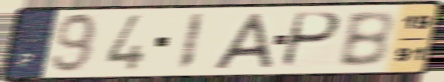4: (103, 12, 149, 73)
9: (48, 11, 100, 76)
A: (209, 11, 276, 71)
B: (334, 9, 397, 69)
I: (174, 11, 207, 72)
P: (278, 10, 344, 70)
